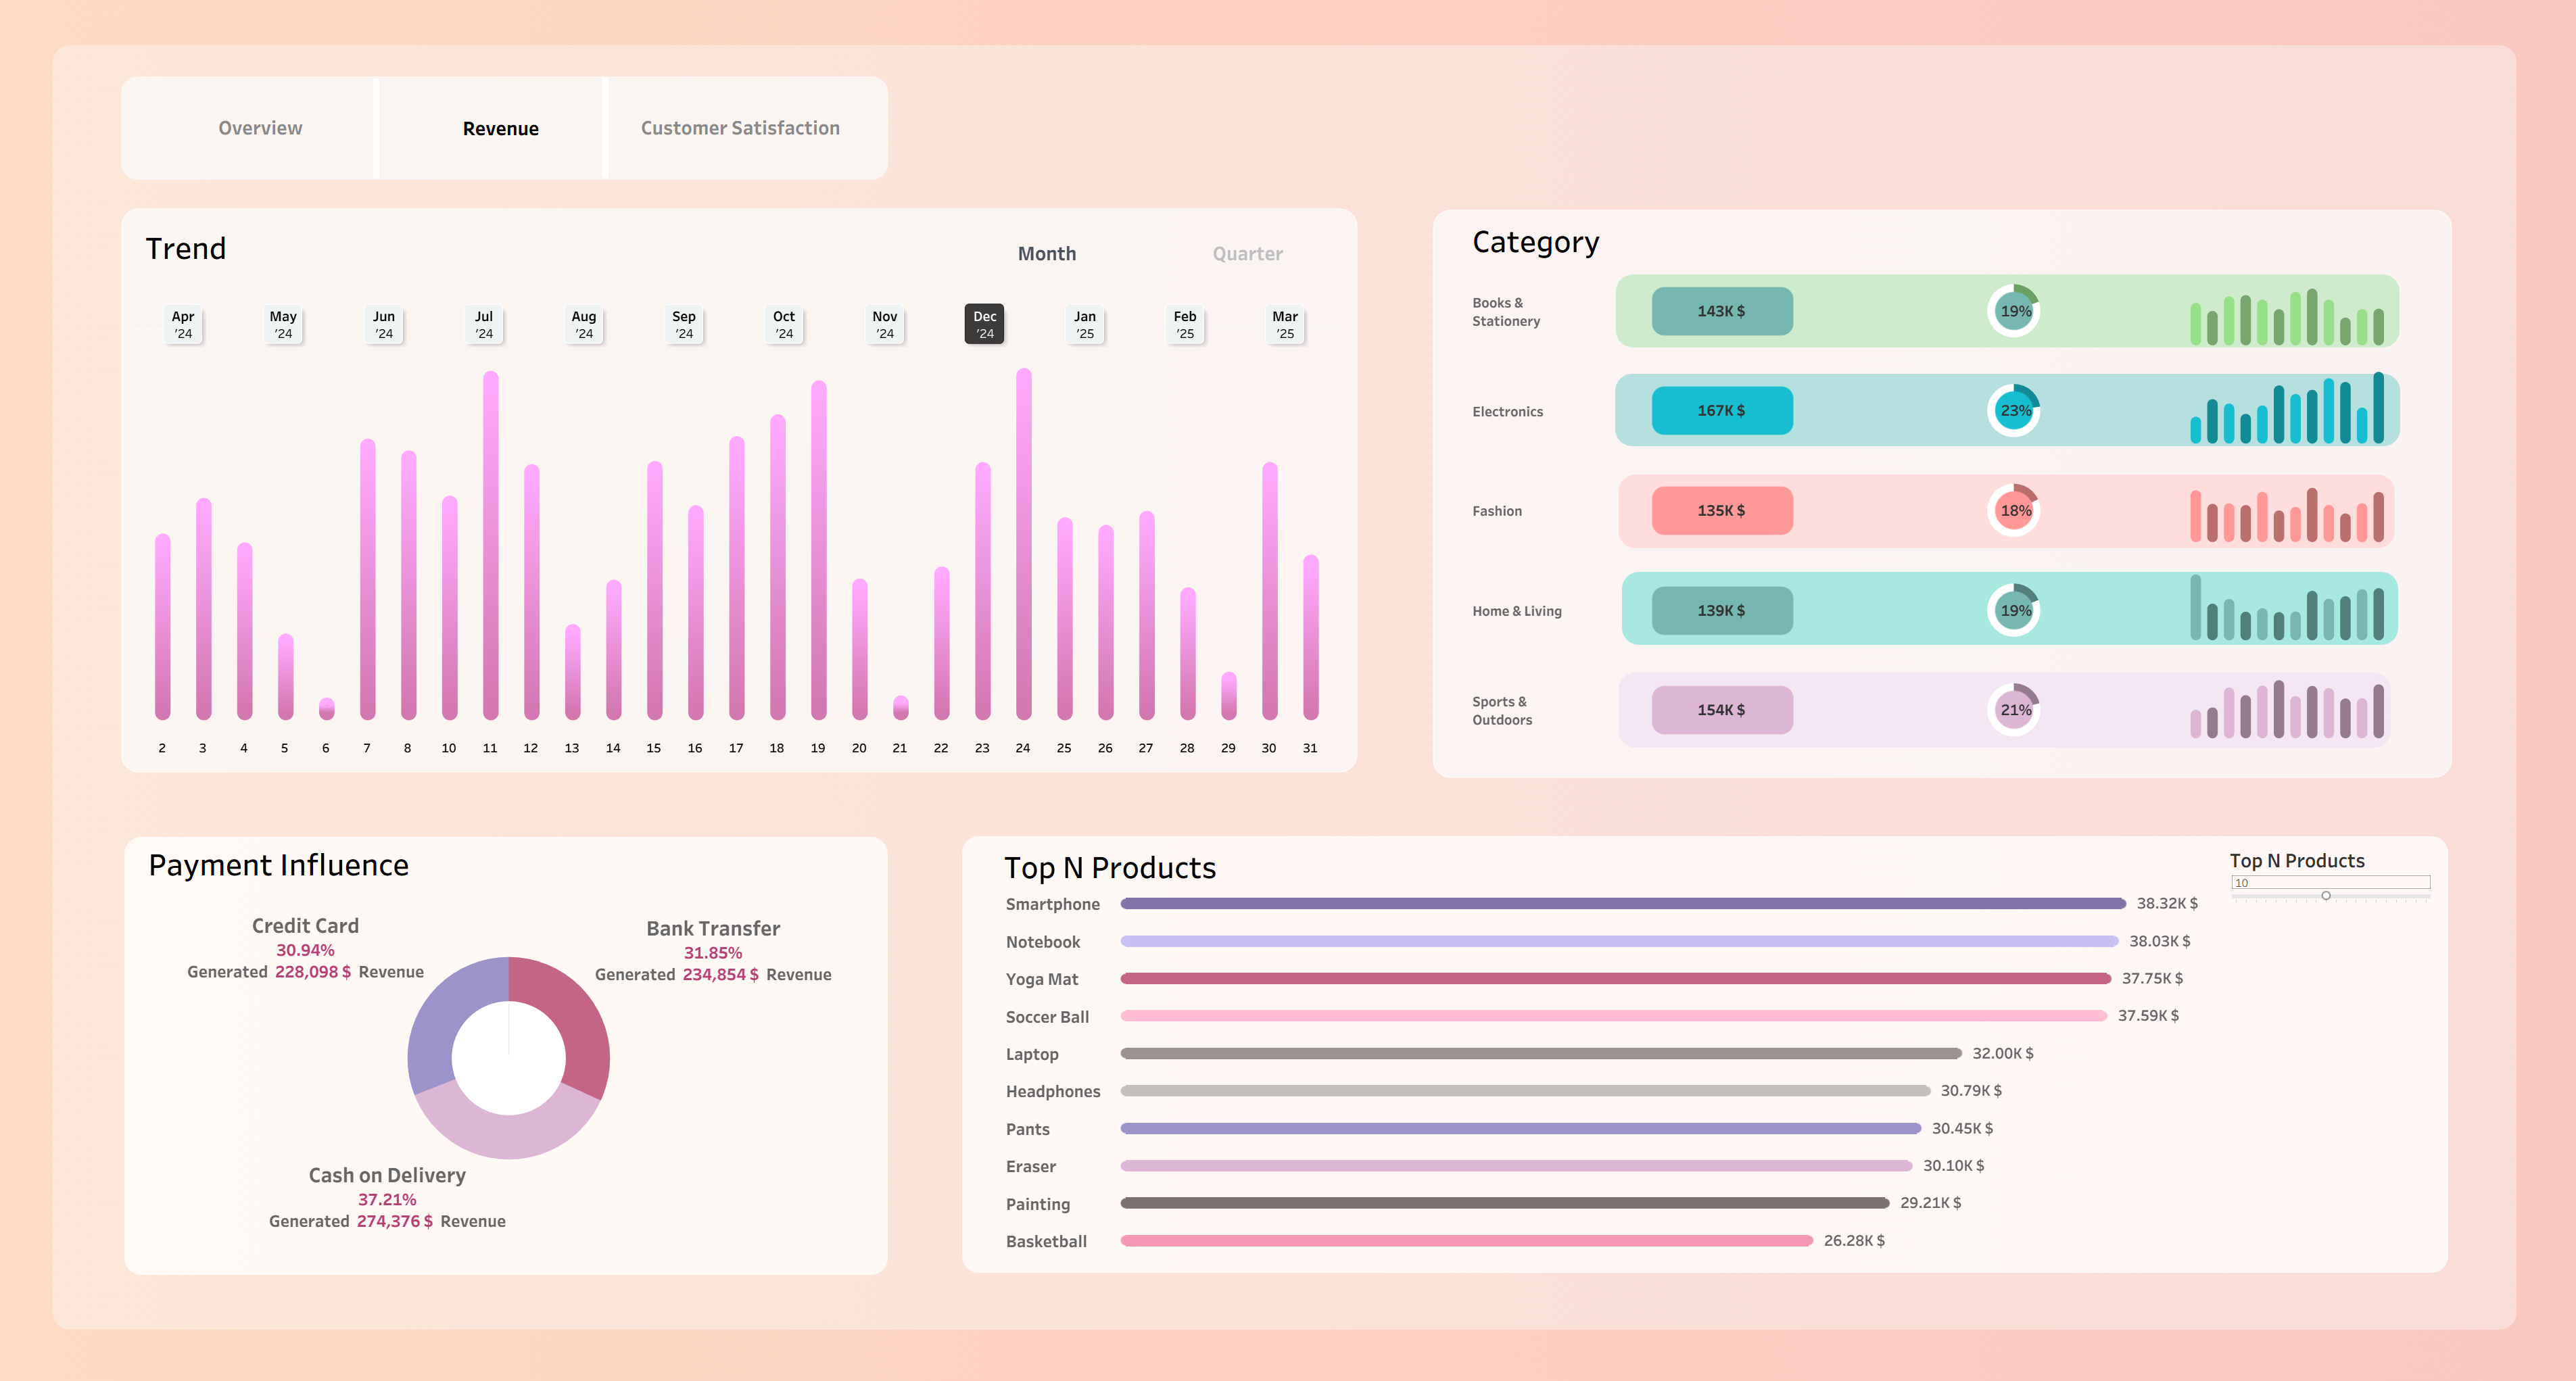

What the dashboard file says about the page in this screenshot:
{"tool":"tableau","page":{"name":"Dashboard 2","canvas":[3840,2160],"ordinal":1},"visuals":[{"type":"worksheet","title":"Blank Space Dashboard 2","mark":"Automatic","box":[52.3,45.5,3741.9,2084.9]},{"type":"text","box":[891.3,125.2,8.7,155.9]},{"type":"text","box":[552.5,126.3,8.7,155.9]},{"type":"dashboard-object","box":[203,137,354,128]},{"type":"text","box":[557,137,354,128]},{"type":"dashboard-object","box":[911,137,354,128]},{"type":"text","box":[2163.9,340.3,365.1,72.2]},{"type":"text","box":[211.4,356.2,385.7,62.6]},{"type":"worksheet","title":"Time Period","mark":"Automatic","cols":["Calculation_0921705078591489"],"box":[1401.2,364.2,593,66]},{"type":"worksheet","title":"KPIs- Category","mark":"Automatic","rows":["category_name"],"cols":["Calculation_0921705122361365","Calculation_0921705122369559","Calculation_0921705127837729"],"box":[2178.2,406.3,1022.1,776.2]},{"type":"worksheet","title":"Alt Bars","mark":"Line","rows":["category_name"],"cols":["Calculation_0680360808755200"],"box":[3266.8,421.1,294.2,764.8]},{"type":"worksheet","title":"Period Range","mark":"Automatic","rows":["Calculation_0921705087066123","Calculation_0921705087074317"],"cols":["Calculation_0921705084383238","Calculation_0921705084243973","Calculation_0921705084108804"],"box":[196.6,459.8,1778,99]},{"type":"worksheet","title":"Sales Visuals","mark":"Line","cols":["Calculation_0921705099210768"],"box":[209.7,549.7,1759.4,630.5]},{"type":"text","box":[214.7,1305.3,460.9,80.8]},{"type":"text","box":[1644.3,1305.3,385.7,66]},{"type":"worksheet","title":"Donut Paymnet","mark":"Pie","rows":["Calculation_0680360851468298","Calculation_0680360851468298"],"box":[204.9,1311,1283.6,678.3]},{"type":"parameter","param":"[Parameters].[Parameter 2]","box":[3318,1314.4,299.7,119.5]},{"type":"worksheet","title":"Top Products","mark":"Automatic","rows":["product_name"],"box":[1639.9,1387.3,1973.4,582.7]}]}

Visuals, with their boxes on the page's 3840x2160 design canvas (x1, y1, x2, y2). These are canvas units, not pixel positions in the 2576x1381 screenshot, which may show the page scaled, cropped or inside an application window:
"Blank Space Dashboard 2" worksheet: BBox(52, 46, 3794, 2130)
text: BBox(891, 125, 900, 281)
text: BBox(552, 126, 561, 282)
dashboard-object: BBox(203, 137, 557, 265)
text: BBox(557, 137, 911, 265)
dashboard-object: BBox(911, 137, 1265, 265)
text: BBox(2164, 340, 2529, 412)
text: BBox(211, 356, 597, 419)
"Time Period" worksheet: BBox(1401, 364, 1994, 430)
"KPIs- Category" worksheet: BBox(2178, 406, 3200, 1182)
"Alt Bars" worksheet (Line marks): BBox(3267, 421, 3561, 1186)
"Period Range" worksheet: BBox(197, 460, 1975, 559)
"Sales Visuals" worksheet (Line marks): BBox(210, 550, 1969, 1180)
text: BBox(215, 1305, 676, 1386)
text: BBox(1644, 1305, 2030, 1371)
"Donut Paymnet" worksheet (Pie marks): BBox(205, 1311, 1488, 1989)
parameter: BBox(3318, 1314, 3618, 1434)
"Top Products" worksheet: BBox(1640, 1387, 3613, 1970)
